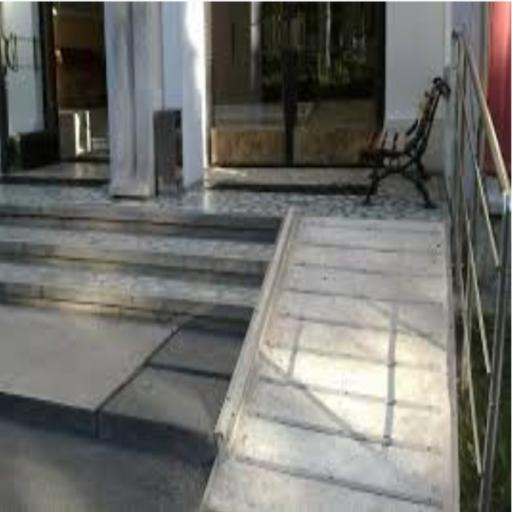entrance: (201, 208, 460, 512)
laptop: (0, 205, 279, 460)
ramp: (154, 110, 183, 190)
trash_bin: (360, 76, 451, 208)
